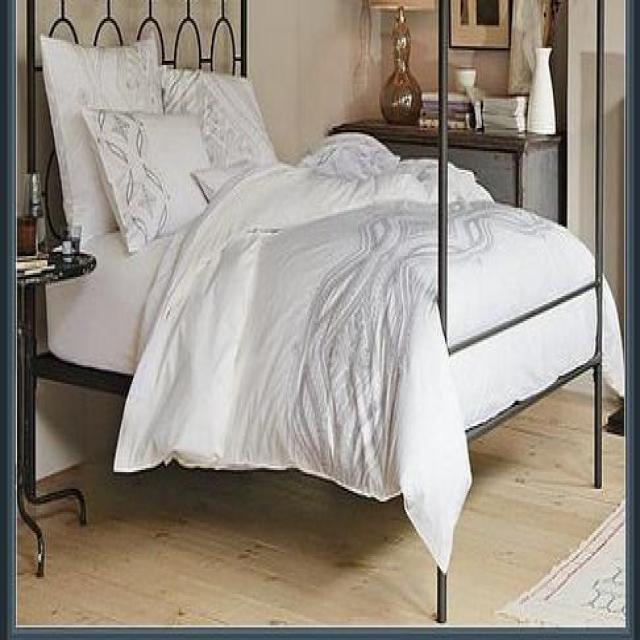bed: (25, 27, 608, 618)
